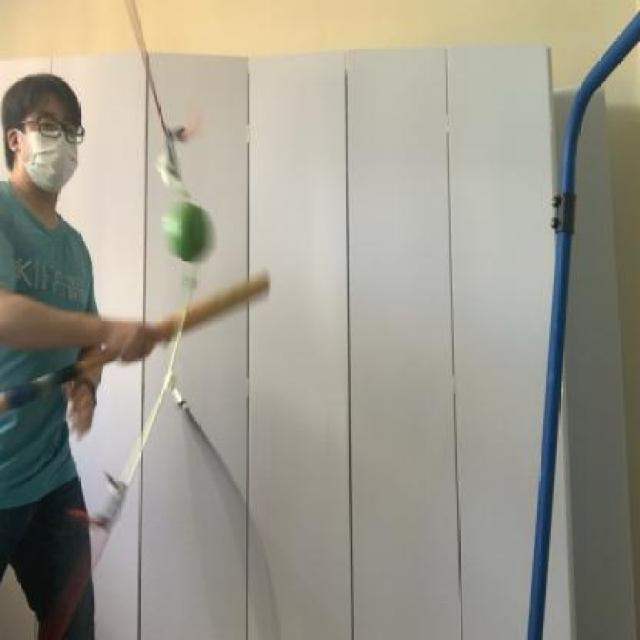baseball: (164, 189, 216, 262)
